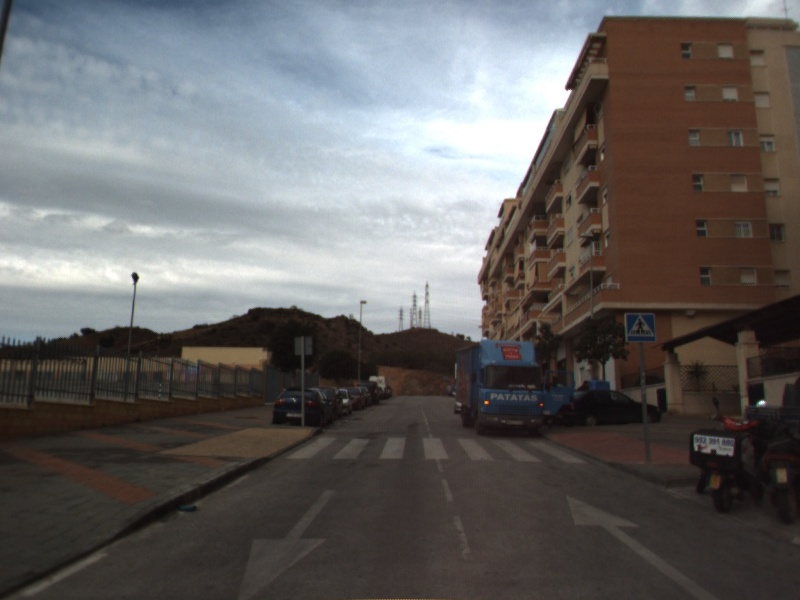STRAIGHT: (565, 493, 723, 600)
